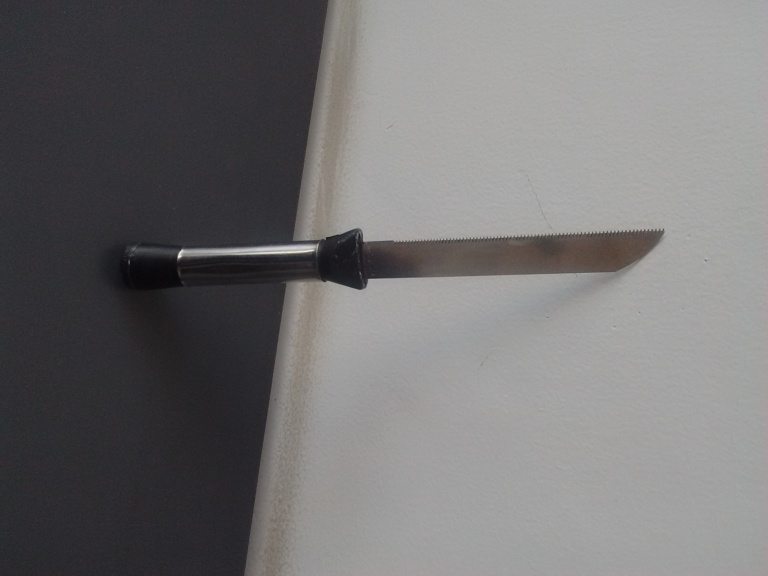knife: (119, 225, 668, 294)
